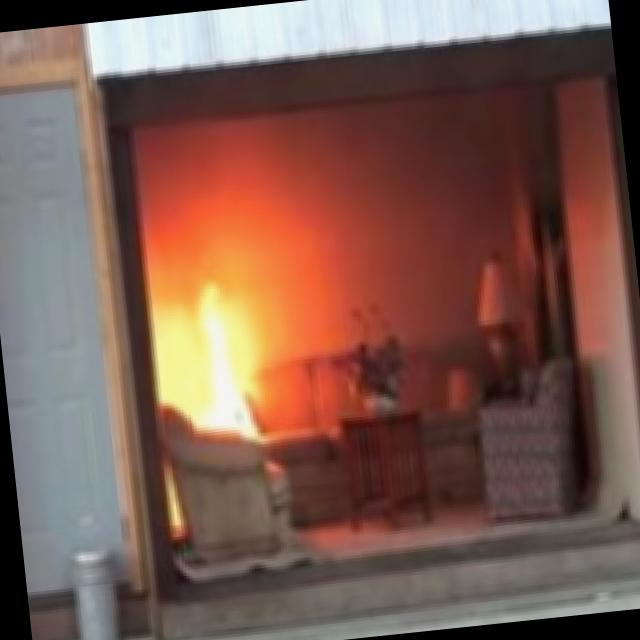fire: (152, 264, 270, 434)
